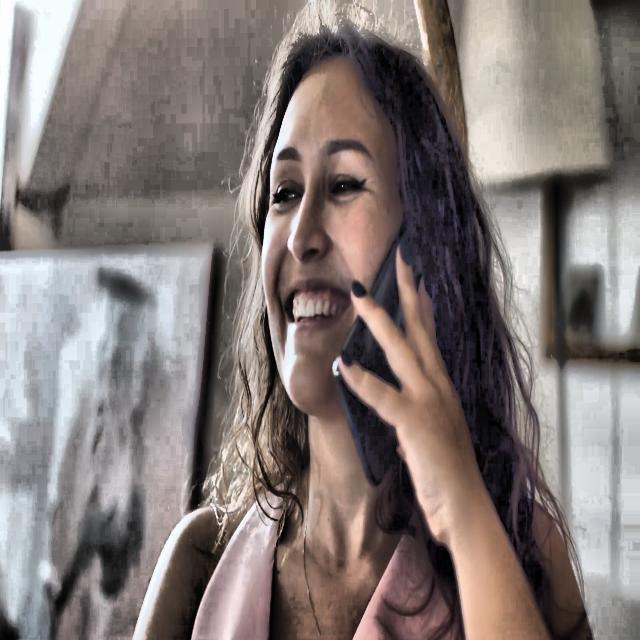Phone: (332, 210, 429, 493)
